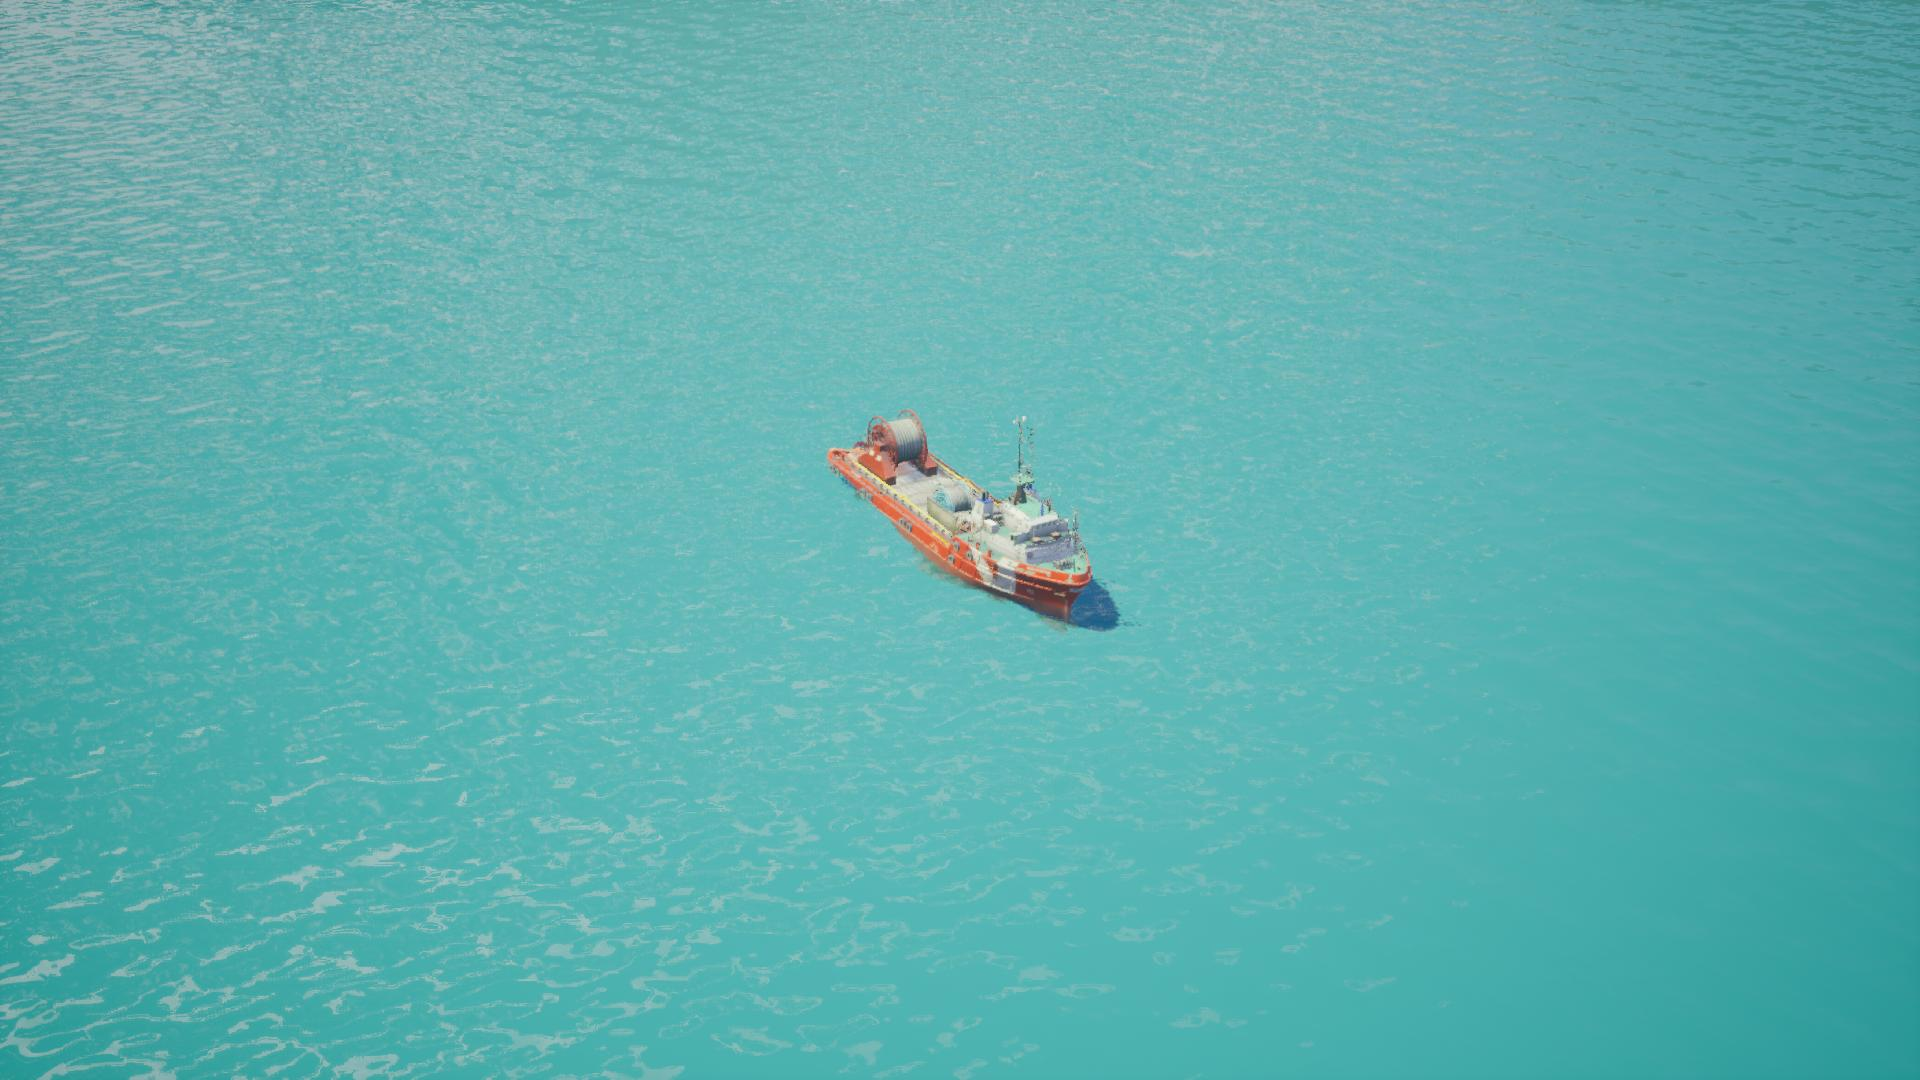Tug Boat: (836, 378, 1138, 667)
